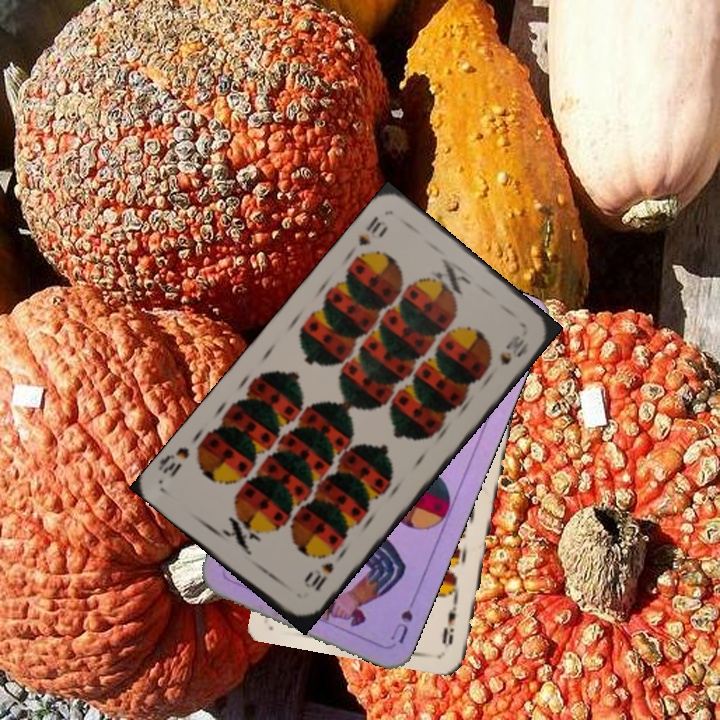E9: (438, 593, 461, 651)
S10: (354, 212, 391, 249), (301, 558, 337, 594)
SU: (386, 588, 422, 647)
